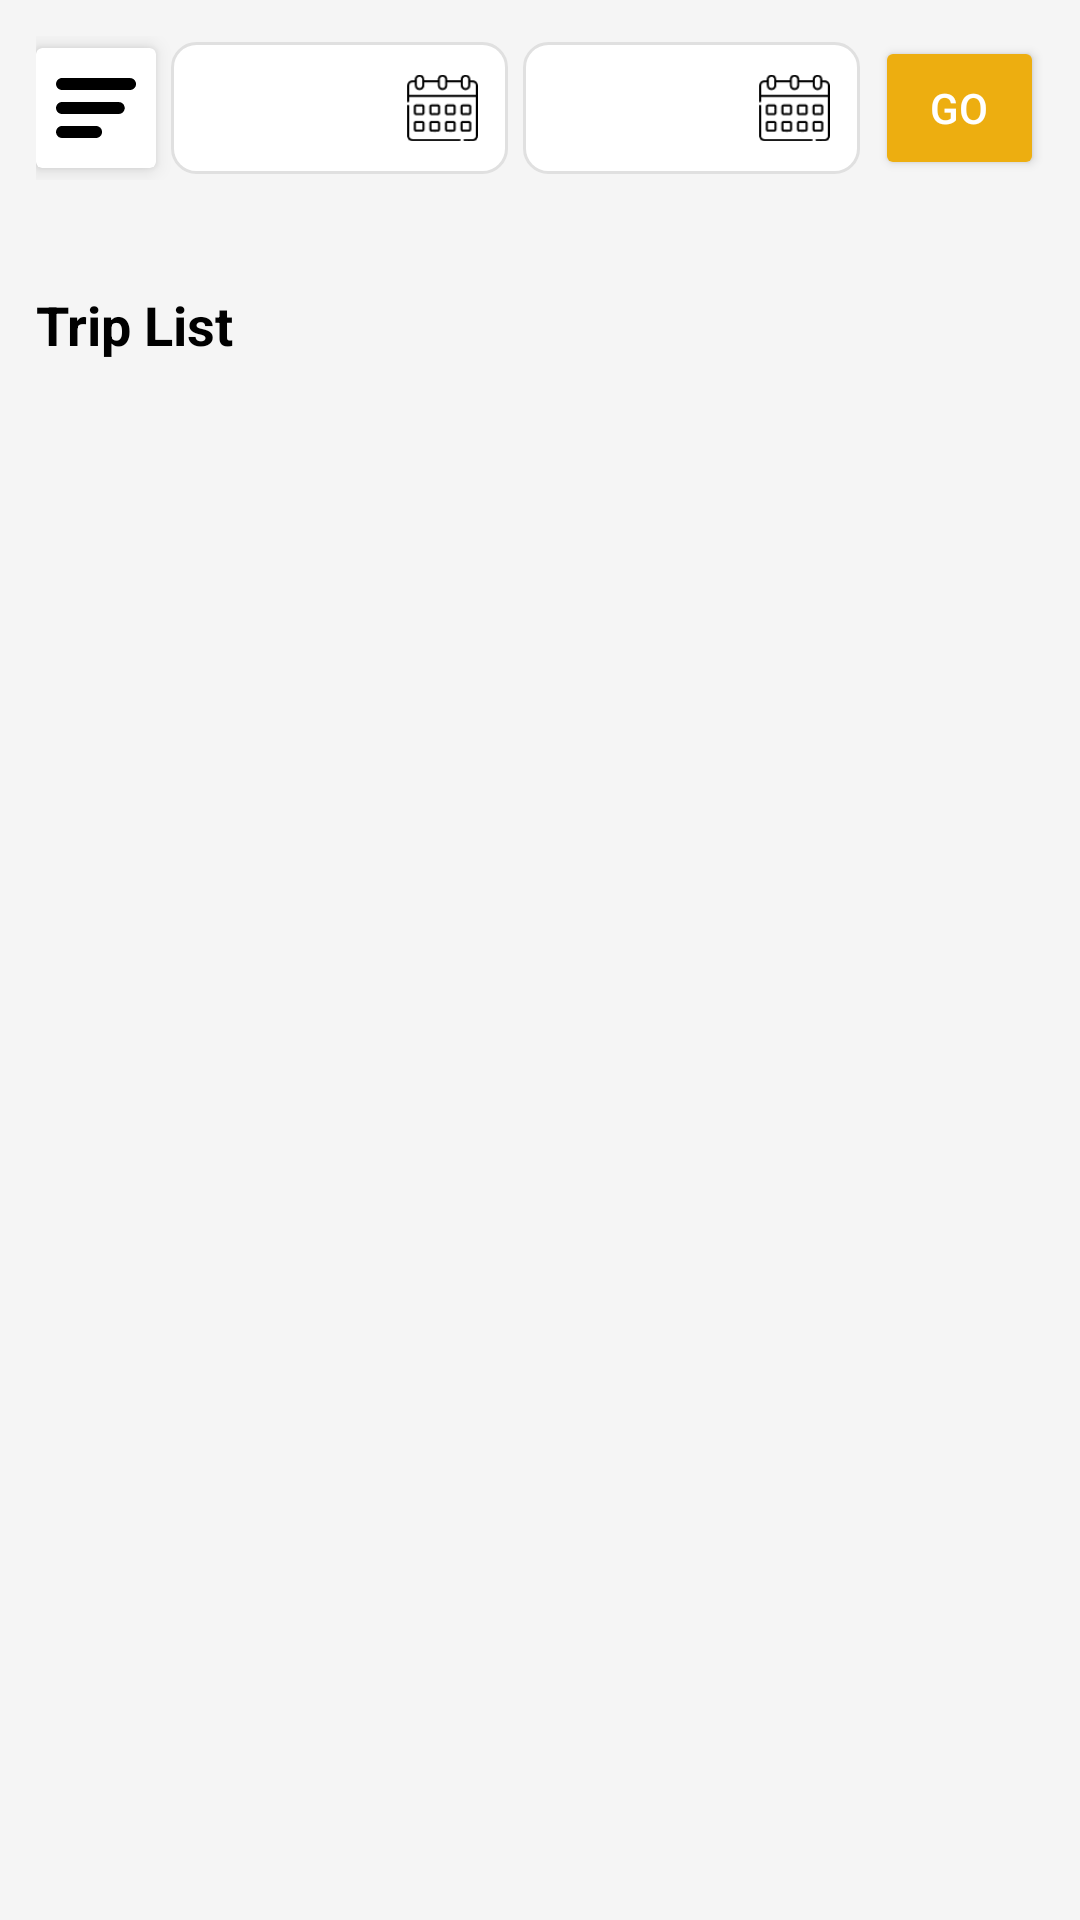

Where icons sit on this 1080px×1920px app screen, as bbox=[x1, y1, x2, y2]:
calendar: bbox=[407, 75, 478, 141], bbox=[759, 75, 830, 141]
